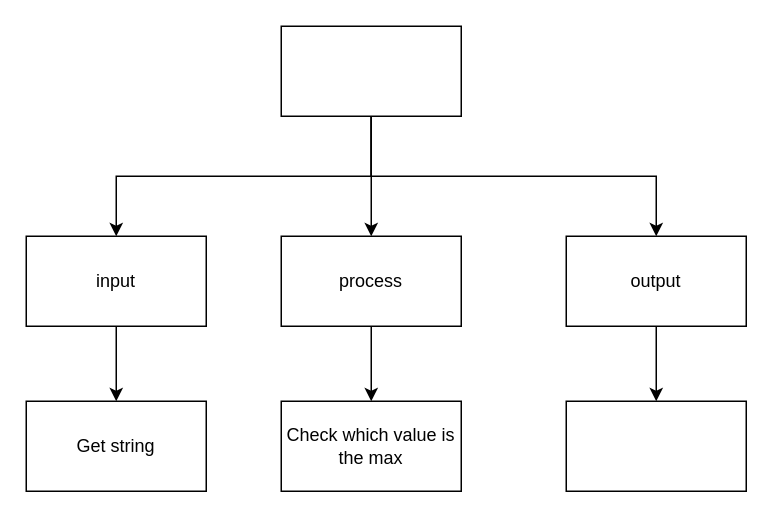
This 773x518 diagram has some shape labels left out. The centre of each missing label's shape, as x and y in pixels:
Max program: [370,70]
Show the maximum run of the string: [655,445]
